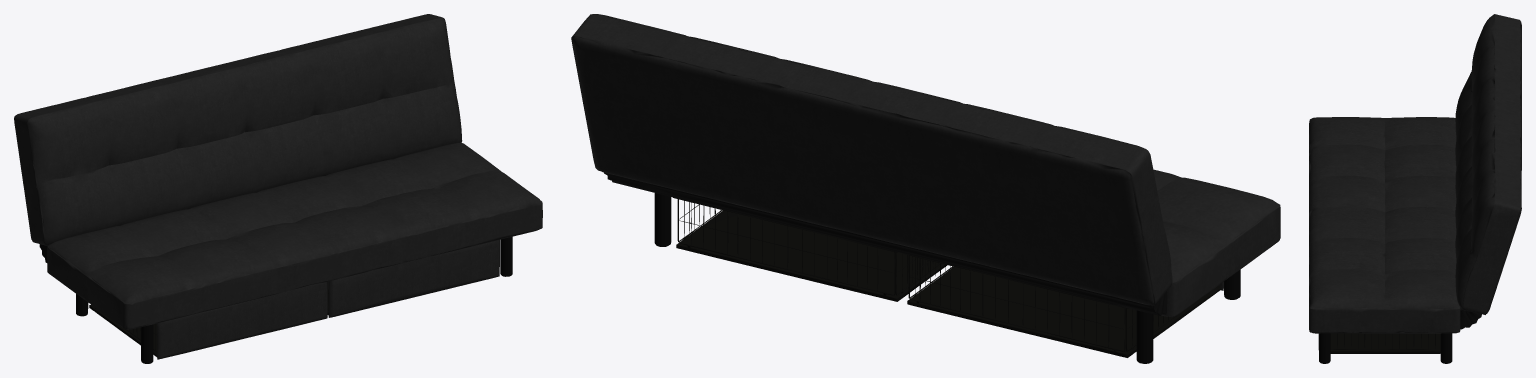
3 views of the same model, side by side, from view 1: azimuth 30°, elevation 25°; view 2: azimuth 150°, elevation 25°; view 3: azimuth 270°, elevation 25° (orthographic). The views are drawn at different scales.
Parts seen in each view (by area): view 1: not_clear_obj_0_v6, not_clear_obj_1_v6, not_clear_obj_2_v6; view 2: not_clear_obj_0_v6, not_clear_obj_2_v6, not_clear_obj_1_v6; view 3: not_clear_obj_0_v6, not_clear_obj_2_v6, not_clear_obj_1_v6.
Boxes of the visible parts, <box> form: not_clear_obj_0_v6: <box>14,14,542,359</box>; not_clear_obj_1_v6: <box>76,236,512,363</box>; not_clear_obj_2_v6: <box>77,275,511,363</box>; not_clear_obj_0_v6: <box>571,14,1280,316</box>; not_clear_obj_2_v6: <box>656,197,1239,363</box>; not_clear_obj_1_v6: <box>654,193,1240,362</box>; not_clear_obj_0_v6: <box>1309,14,1521,349</box>; not_clear_obj_2_v6: <box>1320,333,1450,363</box>; not_clear_obj_1_v6: <box>1319,333,1452,363</box>.
Bounding box in the file's own units: 69 × 29.01 × 32.49.
Materials: 3 (1 with a texture image).
